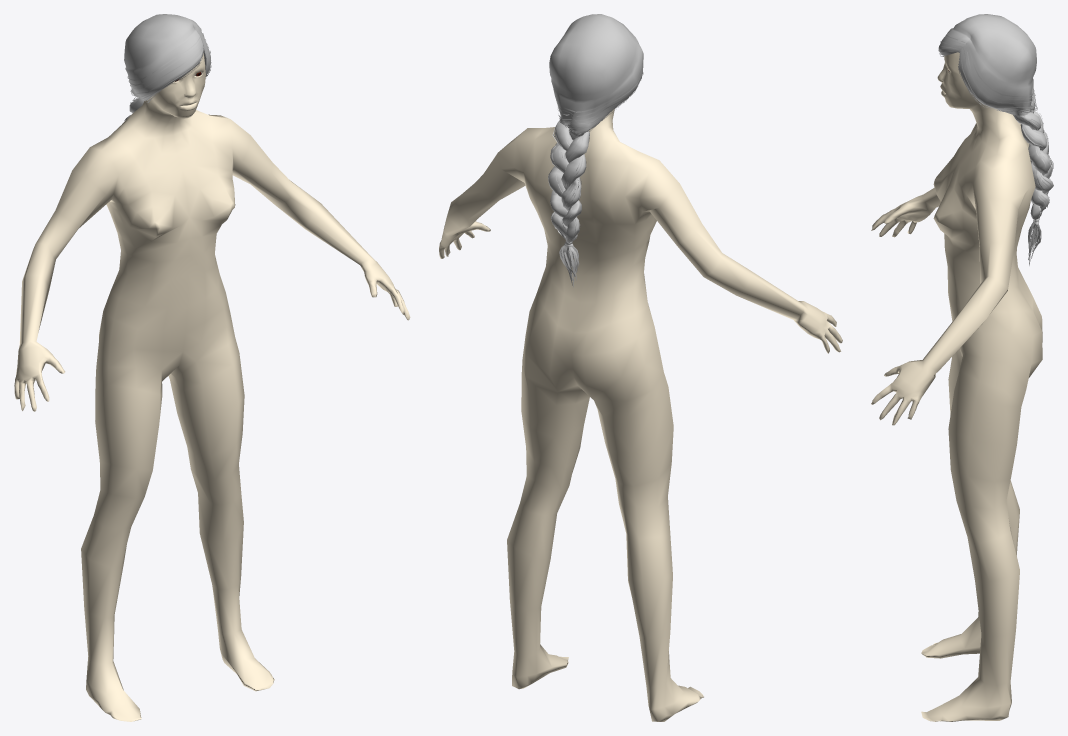
The model's file is npc09.fbx.
3 views of the same model, side by side, from view 1: azimuth 30°, elevation 25°; view 2: azimuth 150°, elevation 25°; view 3: azimuth 270°, elevation 25° (orthographic).
Parts seen in each view (by area): view 1: female1605Mesh, braid01Mesh; view 2: female1605Mesh, braid01Mesh; view 3: female1605Mesh, braid01Mesh.
Boxes of the visible parts, bbox=[...] form: female1605Mesh: bbox=[14, 53, 410, 721]; braid01Mesh: bbox=[124, 14, 211, 120]; female1605Mesh: bbox=[439, 109, 842, 721]; braid01Mesh: bbox=[548, 14, 643, 287]; female1605Mesh: bbox=[871, 52, 1042, 721]; braid01Mesh: bbox=[938, 14, 1053, 265].
Bounding box in the file's own units: 9.91 × 16.35 × 4.05.
